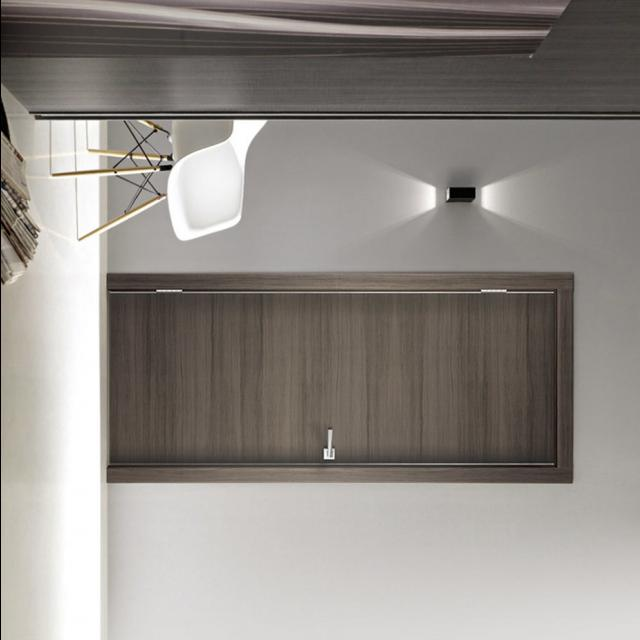close: (98, 267, 566, 481)
